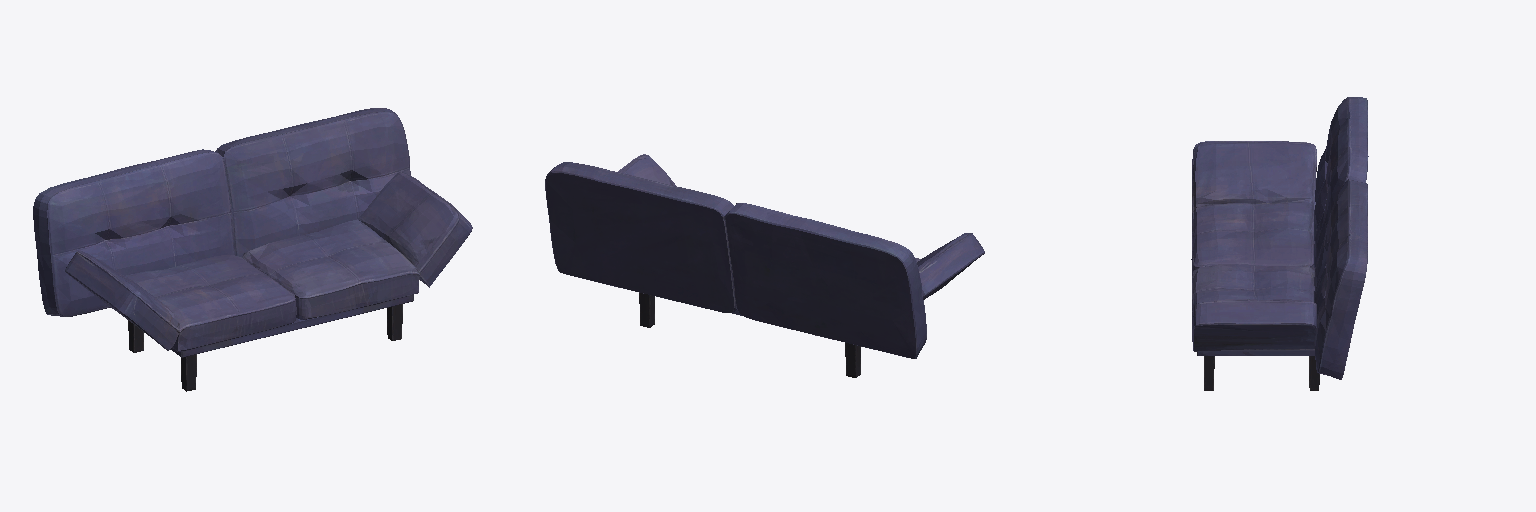
3 views of the same model, side by side, from view 1: azimuth 30°, elevation 25°; view 2: azimuth 150°, elevation 25°; view 3: azimuth 270°, elevation 25° (orthographic).
Parts seen in each view (by area): view 1: Sofa_H2; view 2: Sofa_H2; view 3: Sofa_H2.
Part boxes in pixels (left/top/right/bottom): Sofa_H2: left=33, top=108, right=472, bottom=391; Sofa_H2: left=545, top=154, right=984, bottom=377; Sofa_H2: left=1191, top=97, right=1368, bottom=390.
Size of the model in its own units: 2.1 by 0.897 by 0.8796.
Materials: 1 (1 with a texture image).